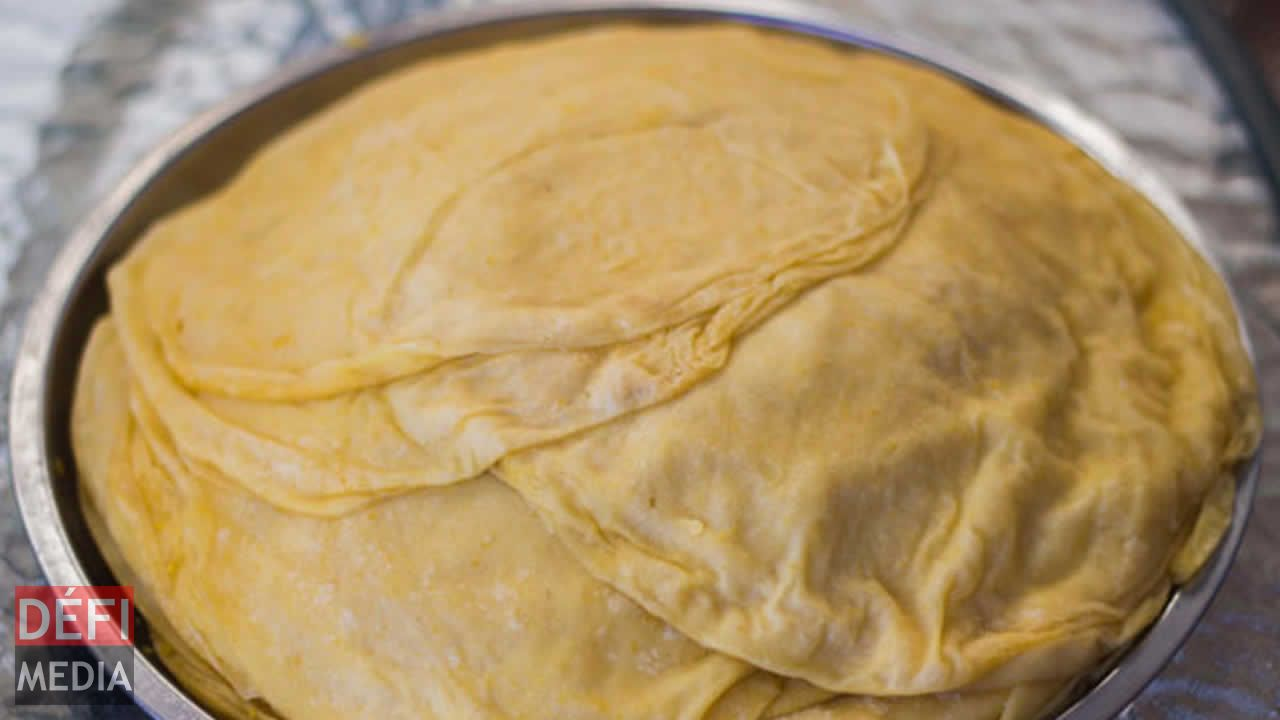Farata: (9, 25, 1233, 703)
